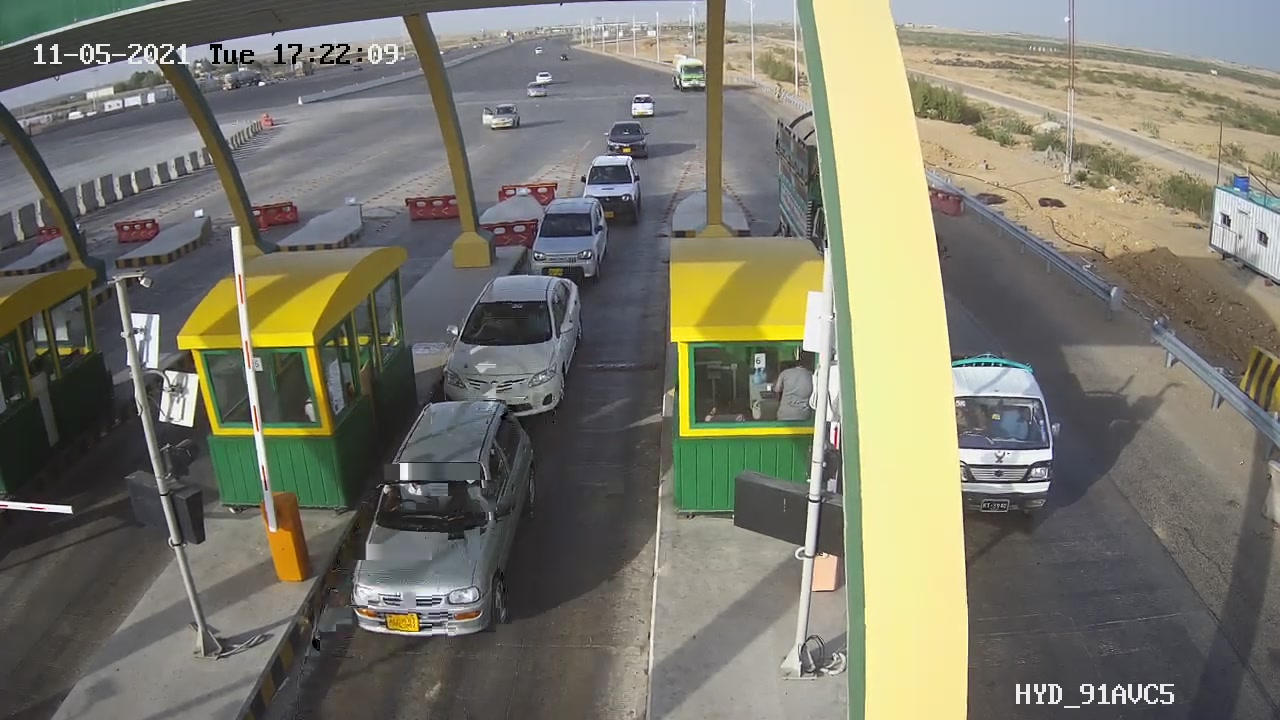F1: (516, 187, 621, 292)
